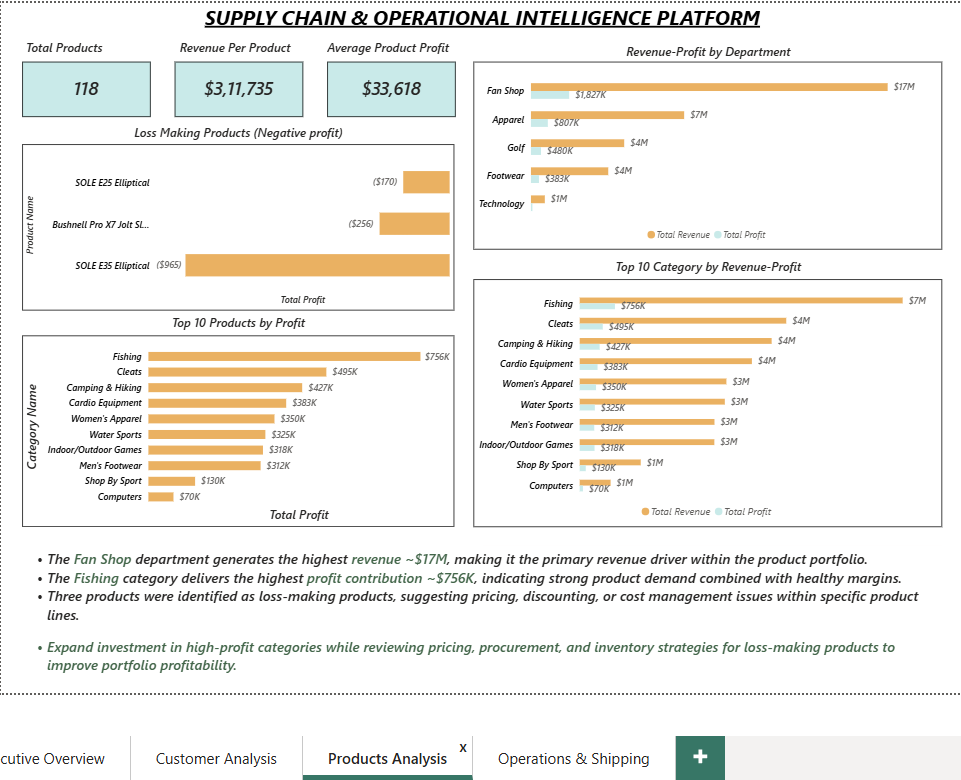

The page's visual inventory and layout, read from the dashboard file:
{"tool":"powerbi","page":{"name":"Product Analysis","canvas":[1920,1080],"ordinal":3},"visuals":[{"type":"actionButton","title":"Close Button Cover","box":[464,0,1456,1078],"z":0,"group":"g2"},{"type":"actionButton","title":"Operations & Shippings","box":[76,478,344,60],"z":0,"group":"g1"},{"type":"actionButton","title":"Close Button","box":[464,0,80,80],"z":1000,"group":"g2"},{"type":"actionButton","title":"Product Analysis","box":[76,389.5,344,60],"z":1000,"group":"g1"},{"type":"shape","title":"Page Navigation (Menu Bar)","box":[106,0,360,1078],"z":2000,"group":"g2"},{"type":"actionButton","title":"Customer Analysis","box":[76,301,344,60],"z":2000,"group":"g1"},{"type":"slicer","fields":{"Values":["gold fact_orders_cleaned_v2.order_date.Variation.Date Hierarchy.Year"]},"box":[1517.3,106,194,80],"z":3000},{"type":"group","id":"g1","title":"Pages","box":[76,124,344,414],"z":3000,"group":"g2"},{"type":"actionButton","title":"Executive Overview","box":[76,212.5,344,60],"z":3000,"group":"g1"},{"type":"slicer","fields":{"Values":["gold fact_orders_cleaned_v2.order_date.Variation.Date Hierarchy.Month"]},"box":[1718,106,194,80],"z":4000},{"type":"actionButton","title":"Home","box":[76,124,344,60],"z":4000,"group":"g1"},{"type":"slicer","fields":{"Values":["gold fact_orders_cleaned_v2.market"]},"box":[1230.7,106,280,80],"z":5000},{"type":"slicer","fields":{"Values":["gold fact_orders_cleaned_v2.shipping_mode"]},"box":[944,106,280,80],"z":6000},{"type":"slicer","fields":{"Values":["gold fact_orders_cleaned_v2.order_country"]},"box":[665.3,106,272,80],"z":7000},{"type":"cardVisual","title":"Total Products Card","fields":{"Data":["Product Measures.Total_Products"]},"box":[106,186,362,190],"z":9000},{"type":"cardVisual","title":"Revenue Card(Product)","fields":{"Data":["Product Analysis Measure.Revenue Per Product"]},"box":[468,188,362,190],"z":10500},{"type":"cardVisual","title":"Avg product discount card","fields":{"Data":["Product Analysis Measure.Average Product Discount"]},"box":[832,186,362,190],"z":11000},{"type":"clusteredBarChart","title":"Top 10 Category by Revenue","fields":{"Category":["gold dim_products.category_name"],"Y":["Measure's Table.Total Revenue"]},"box":[1206,688,692,366],"z":14500},{"type":"clusteredBarChart","title":"Revenue by Department","fields":{"Category":["gold dim_departments.department_name"],"Y":["Measure's Table.Total Revenue"]},"box":[1206,204,692,468],"z":16500},{"type":"clusteredBarChart","title":"Top 10 Products by Revenue","fields":{"Y":["Executive Measure.Total Revenue"],"Category":["gold dim_products.product_name"]},"box":[126,718,1052,336],"z":18000},{"type":"actionButton","title":"Revenue Button","box":[116,106,268,80],"z":20000},{"type":"actionButton","title":"Profit Button","box":[390.7,106,268,80],"z":21000},{"type":"waterfallChart","title":"Loss Making Products","fields":{"Category":["gold dim_products.product_name"],"Y":["Executive Measure.Total Profit"]},"box":[126,376,1052,322],"z":22000},{"type":"textbox","box":[250,18,306,60],"z":23000},{"type":"image","box":[198,28,54,40],"z":24000},{"type":"group","id":"g2","title":"Menu Objects","box":[76,0,1844,1078],"z":24500},{"type":"actionButton","title":"Menu Button","box":[15,7,60,60],"z":25000}]}

Visuals, with their boxes on the page's 1920x1080 design canvas (x1, y1, x2, y2). These are canvas units, not pixel positions in the 961x780 screenshot, which may show the page scaled, cropped or inside an application window:
"Close Button Cover" actionButton: x1=464 y1=0 x2=1920 y2=1078
"Operations & Shippings" actionButton: x1=76 y1=478 x2=420 y2=538
"Close Button" actionButton: x1=464 y1=0 x2=544 y2=80
"Product Analysis" actionButton: x1=76 y1=390 x2=420 y2=450
"Page Navigation (Menu Bar)" shape: x1=106 y1=0 x2=466 y2=1078
"Customer Analysis" actionButton: x1=76 y1=301 x2=420 y2=361
slicer - gold fact_orders_cleaned_v2.order_date.Variation.Date Hierarchy.Year: x1=1517 y1=106 x2=1711 y2=186
"Pages" group: x1=76 y1=124 x2=420 y2=538
"Executive Overview" actionButton: x1=76 y1=212 x2=420 y2=272
slicer - gold fact_orders_cleaned_v2.order_date.Variation.Date Hierarchy.Month: x1=1718 y1=106 x2=1912 y2=186
"Home" actionButton: x1=76 y1=124 x2=420 y2=184
slicer - gold fact_orders_cleaned_v2.market: x1=1231 y1=106 x2=1511 y2=186
slicer - gold fact_orders_cleaned_v2.shipping_mode: x1=944 y1=106 x2=1224 y2=186
slicer - gold fact_orders_cleaned_v2.order_country: x1=665 y1=106 x2=937 y2=186
"Total Products Card" cardVisual: x1=106 y1=186 x2=468 y2=376
"Revenue Card(Product)" cardVisual: x1=468 y1=188 x2=830 y2=378
"Avg product discount card" cardVisual: x1=832 y1=186 x2=1194 y2=376
"Top 10 Category by Revenue" clusteredBarChart: x1=1206 y1=688 x2=1898 y2=1054
"Revenue by Department" clusteredBarChart: x1=1206 y1=204 x2=1898 y2=672
"Top 10 Products by Revenue" clusteredBarChart: x1=126 y1=718 x2=1178 y2=1054
"Revenue Button" actionButton: x1=116 y1=106 x2=384 y2=186
"Profit Button" actionButton: x1=391 y1=106 x2=659 y2=186
"Loss Making Products" waterfallChart: x1=126 y1=376 x2=1178 y2=698
textbox: x1=250 y1=18 x2=556 y2=78
image: x1=198 y1=28 x2=252 y2=68
"Menu Objects" group: x1=76 y1=0 x2=1920 y2=1078
"Menu Button" actionButton: x1=15 y1=7 x2=75 y2=67
